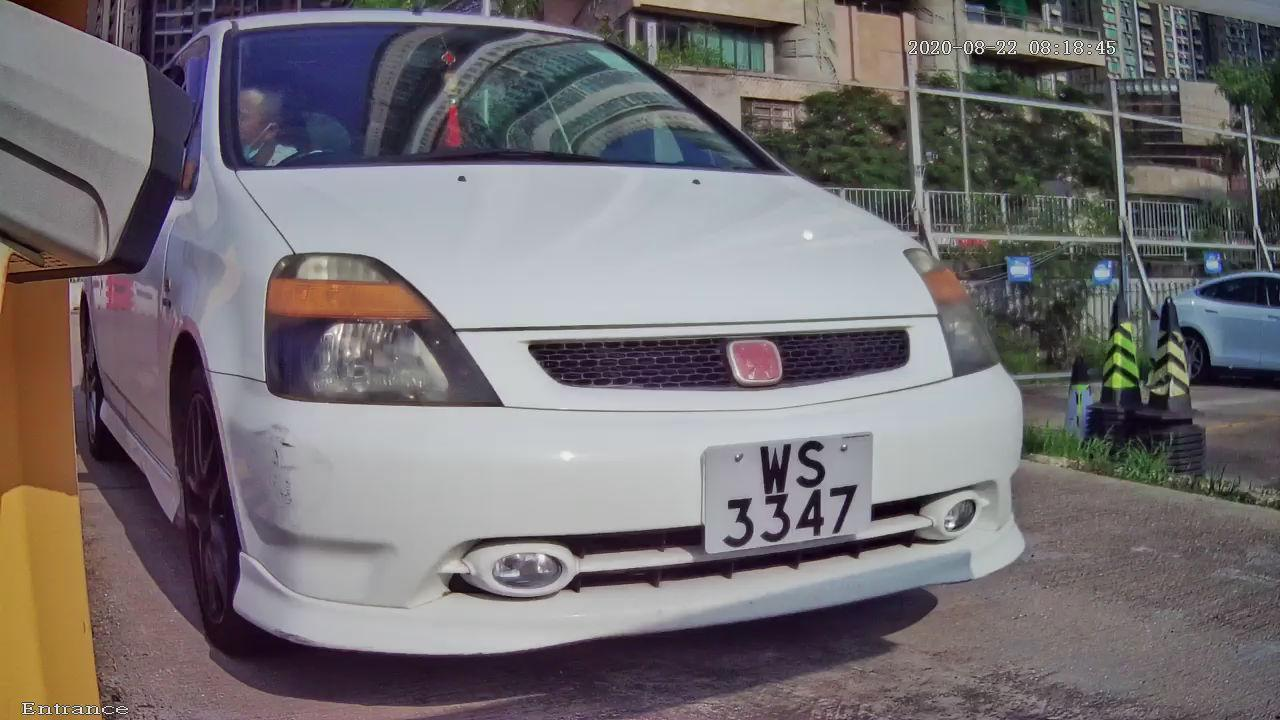License Plate: (647, 409, 909, 578)
